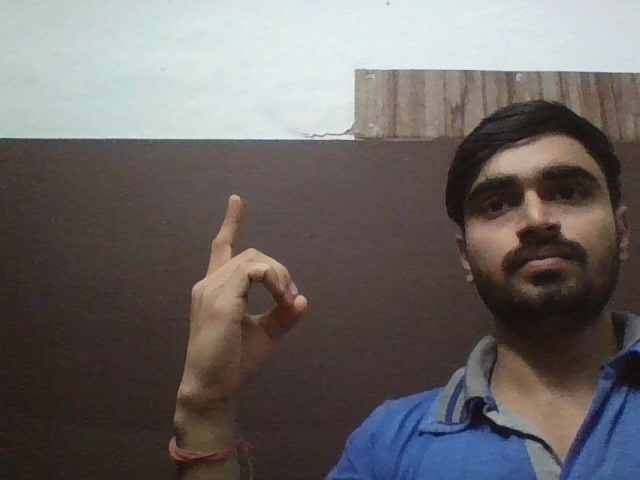D: (172, 187, 320, 384)
